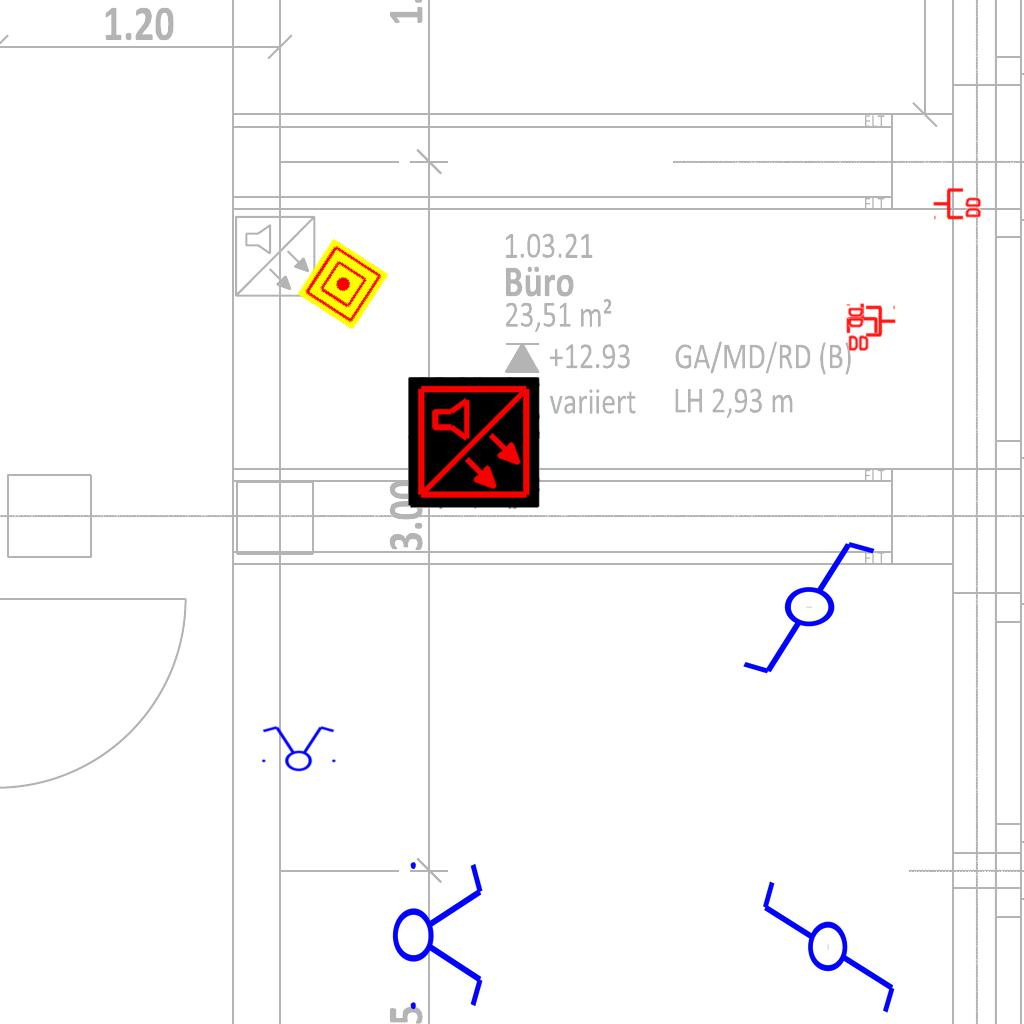Datenanschluss_zweifach: (846, 302, 880, 353), (932, 186, 983, 220), (846, 305, 897, 339)
NAM-Nichtautomatischer_Melder: (297, 238, 389, 330)
OKW_Multisensormelder_(Kombination_optischer_Rauch-Kahlenmonoxid_Waerme-Melder): (408, 377, 540, 509)
Serienschalter: (391, 850, 487, 1018), (256, 724, 340, 772)
Wechselschalter: (758, 860, 902, 1017), (739, 537, 896, 681)
